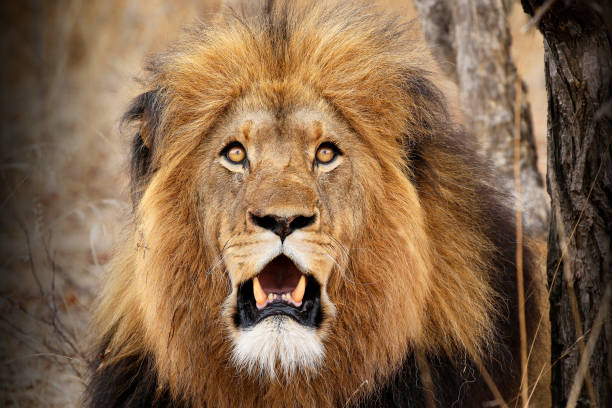lion: (92, 20, 464, 408)
